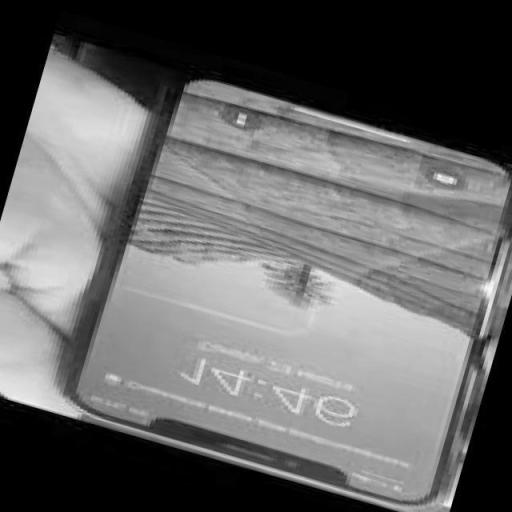phone: (52, 72, 511, 511)
